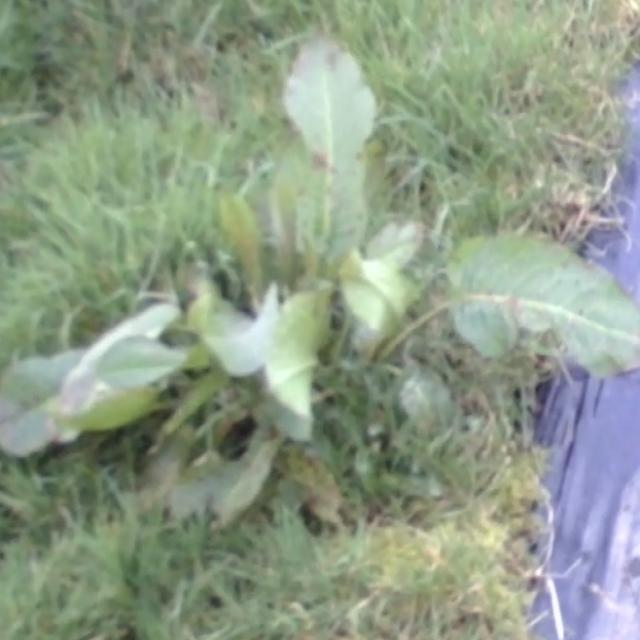organic waste: (34, 71, 640, 489)
